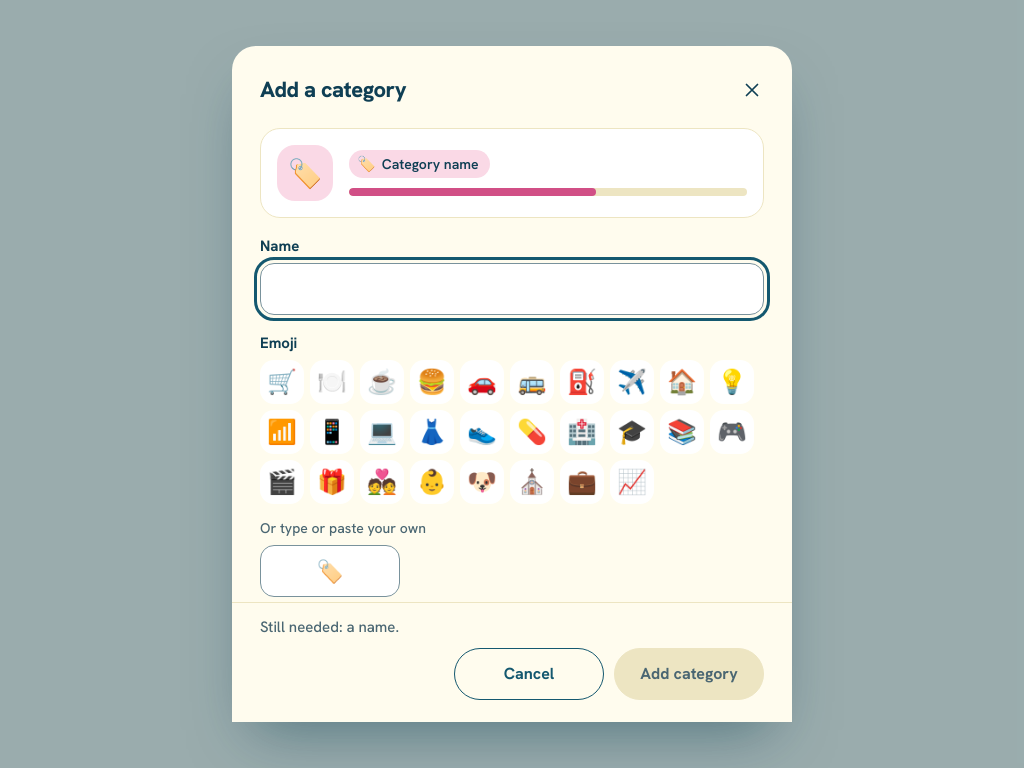
it: add a category › keeps the form open with a plain message when saving fails
Type "Pets" into the field labelled "Name". click: (512, 289)
box: [260,263,764,315]
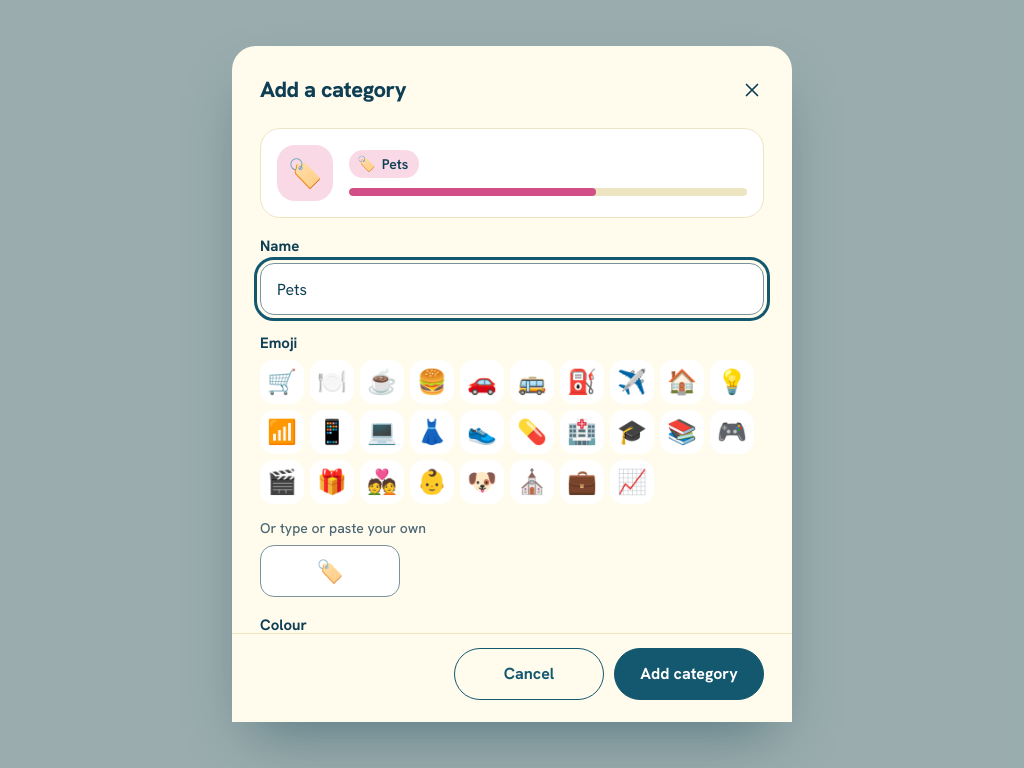
Click the button "Add category". click: (689, 674)
box: [614,648,764,700]
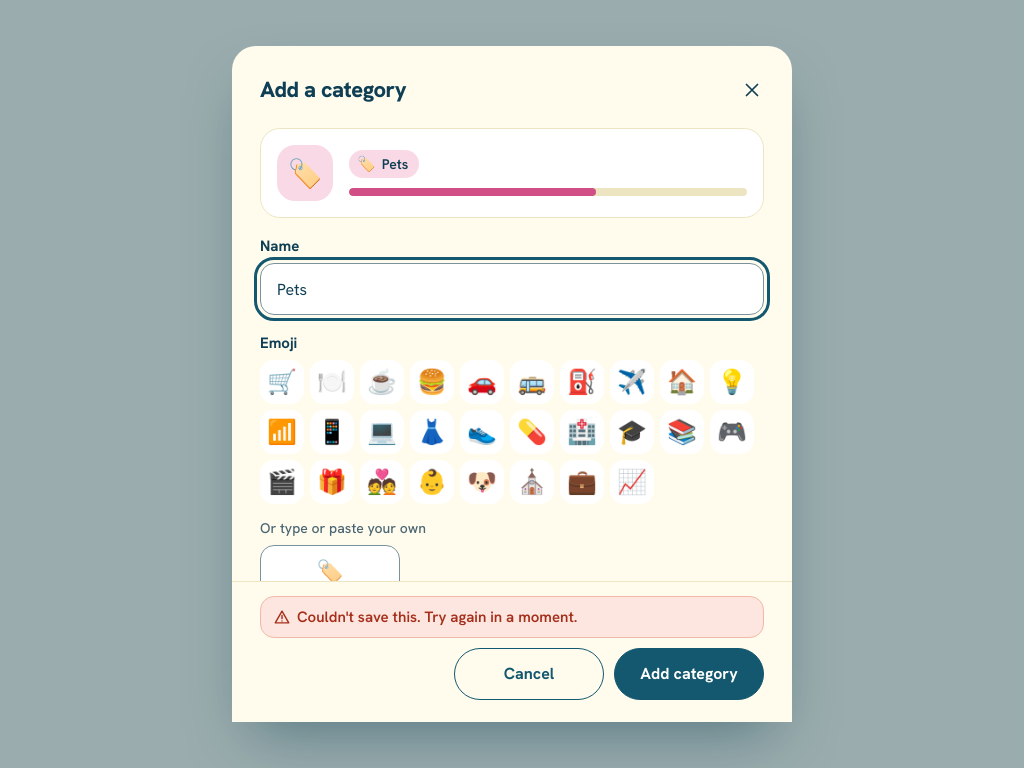
Result: the text "Couldn't save this. Try again in a moment." is shown at [297,607,577,627]
